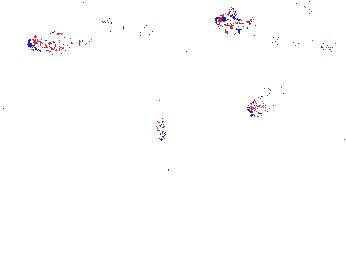X-ray fish: (242, 89, 279, 121), (152, 102, 168, 142)
glassfish: (80, 4, 209, 75)
red belly glassfish: (25, 32, 89, 54), (216, 13, 253, 33)
redtail glassfish: (269, 33, 333, 57)
